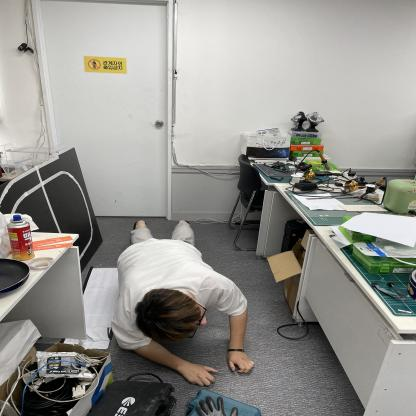fall: (113, 220, 251, 384)
